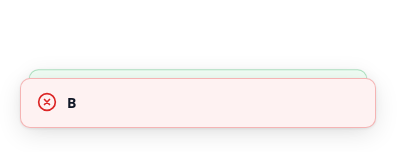
Test: <Toaster /> upgrades › flags stacked and rich-colors modes
Hover over the element showing "B" at (198, 103), box 20,78 -> 376,128
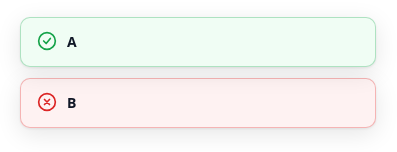
Result: the list has attribute data-expanded="true"
